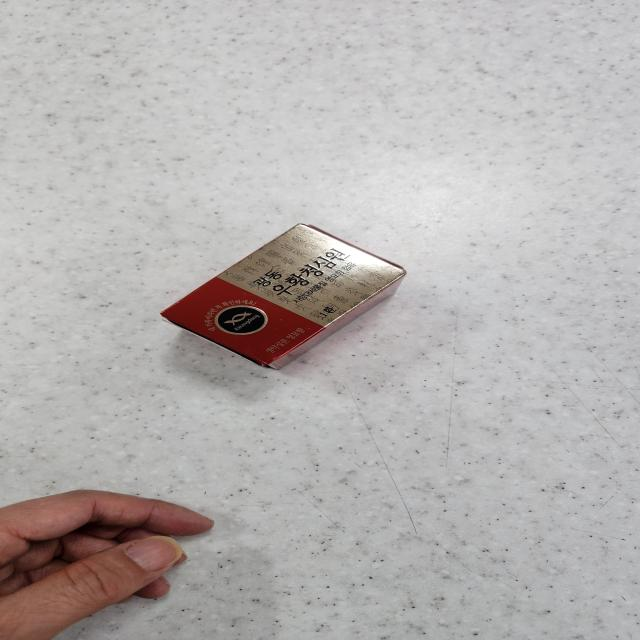box: (161, 225, 406, 368)
